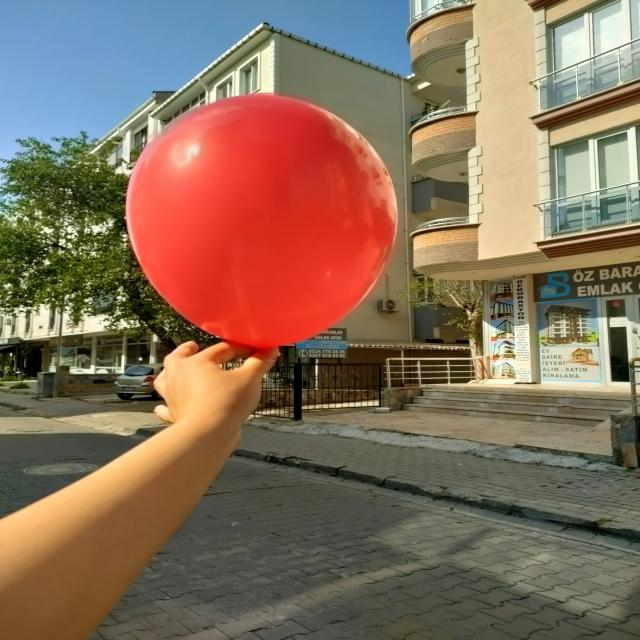red: (127, 94, 399, 345)
